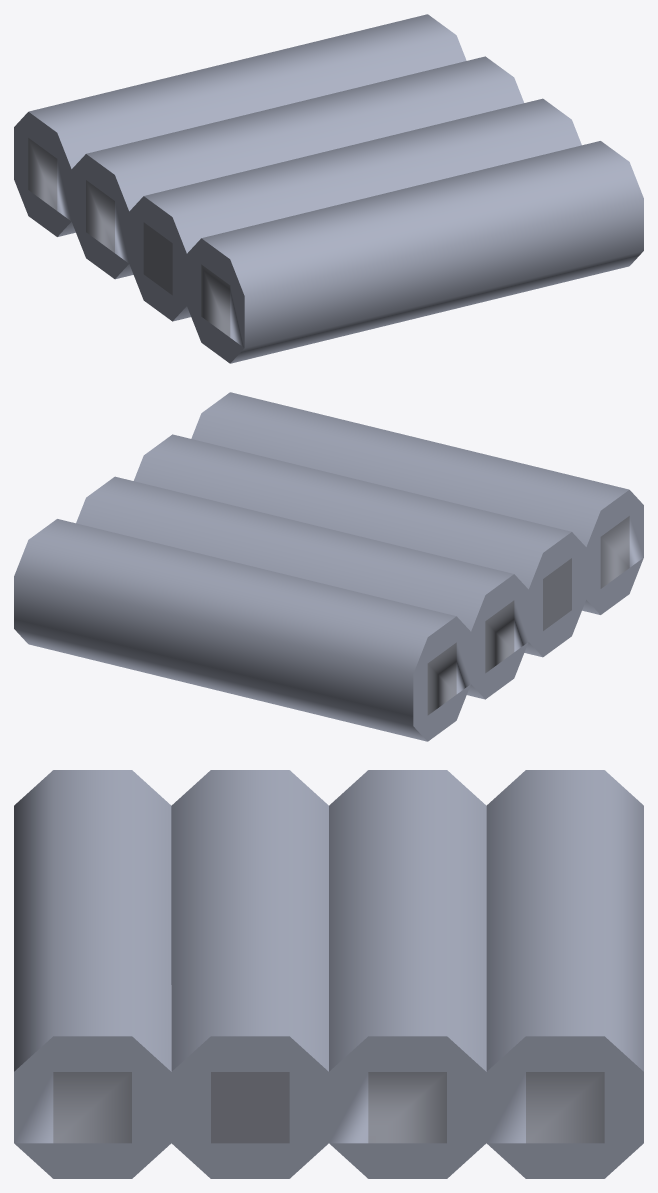
The model's file is conveyor-bars.fbx.
3 renders of one model, top to bottom at view 1: azimuth 30°, elevation 25°; view 2: azimuth 150°, elevation 25°; view 3: azimuth 270°, elevation 25°, orthographic. The views are drawn at different scales.
Visible parts, largest first — view 1: conveyor-bars; view 2: conveyor-bars; view 3: conveyor-bars.
Boxes of the visible parts, bbox=[...] form: conveyor-bars: bbox=[14, 14, 643, 363]; conveyor-bars: bbox=[14, 392, 643, 741]; conveyor-bars: bbox=[14, 770, 643, 1178].
Bounding box in the file's own units: 100 × 25 × 100.
